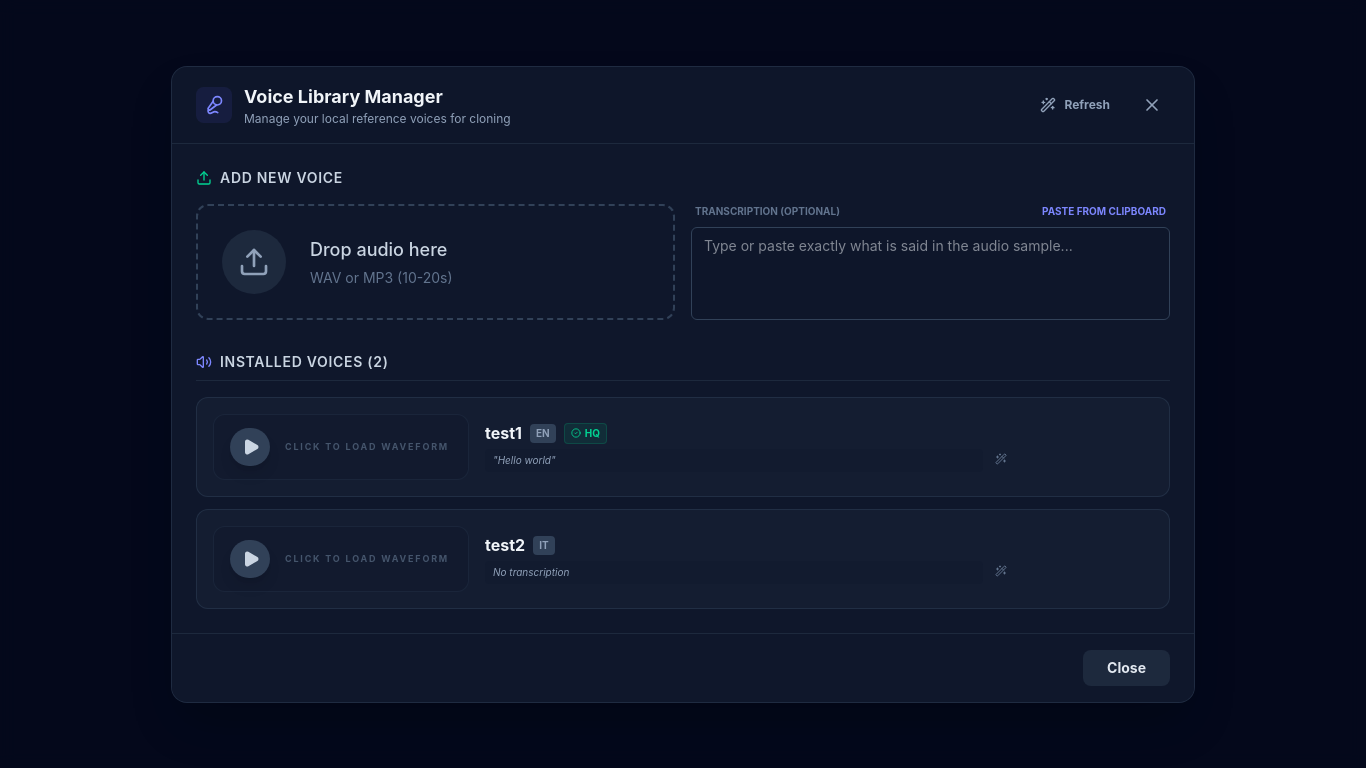
Test: VoicesManagementModal › enters inline editing mode for transcription
Click the button titled "Edit Transcription" in the row of "\"Hello world\"" at (1001, 459), box [991,449,1011,469]
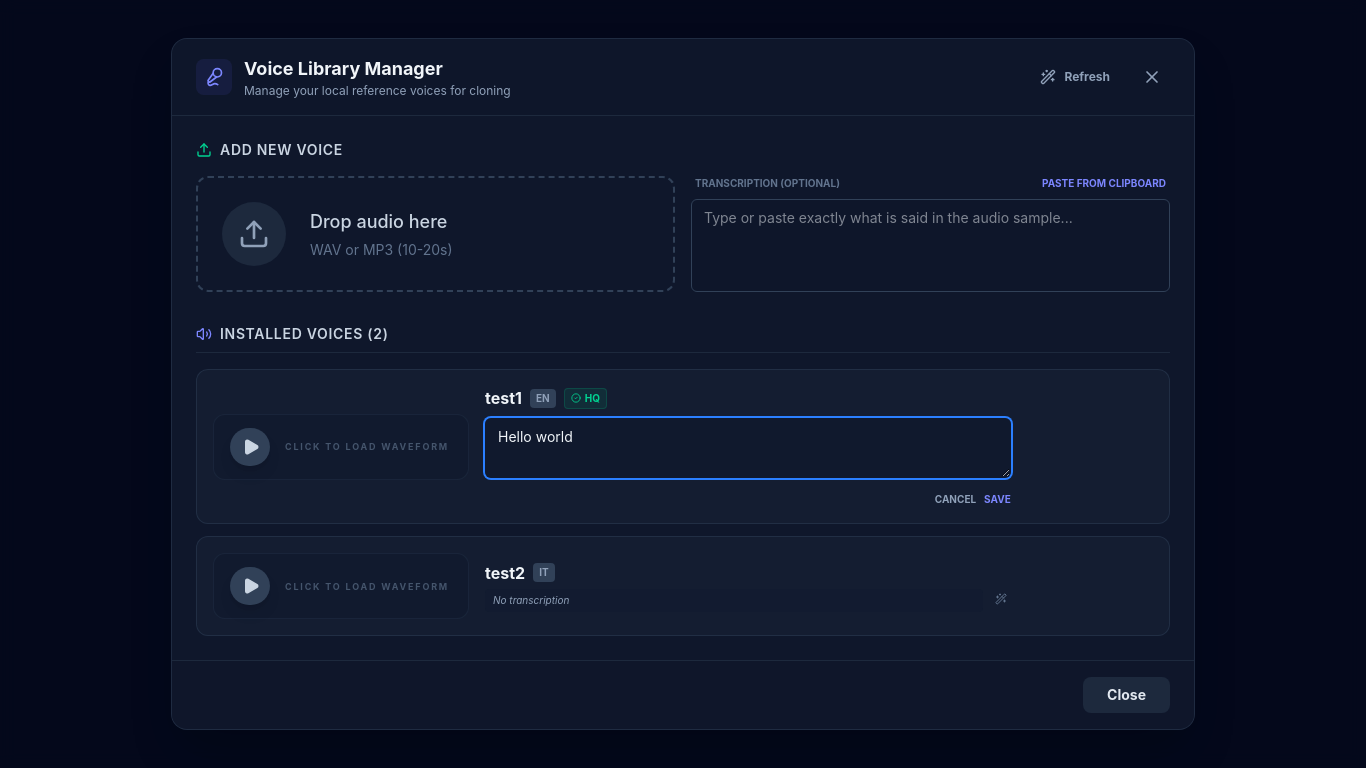
Now the text box showing "Hello world" is shown, box [485,418,1011,478]
Now the button "Save" is shown, box [984,492,1011,507]
